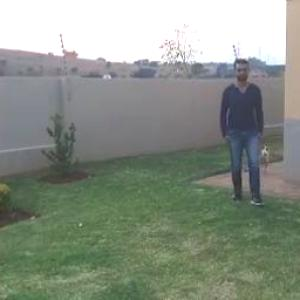follow: (224, 53, 273, 212)
